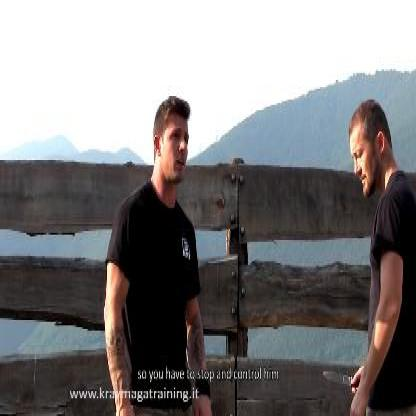knife: (318, 366, 362, 396)
